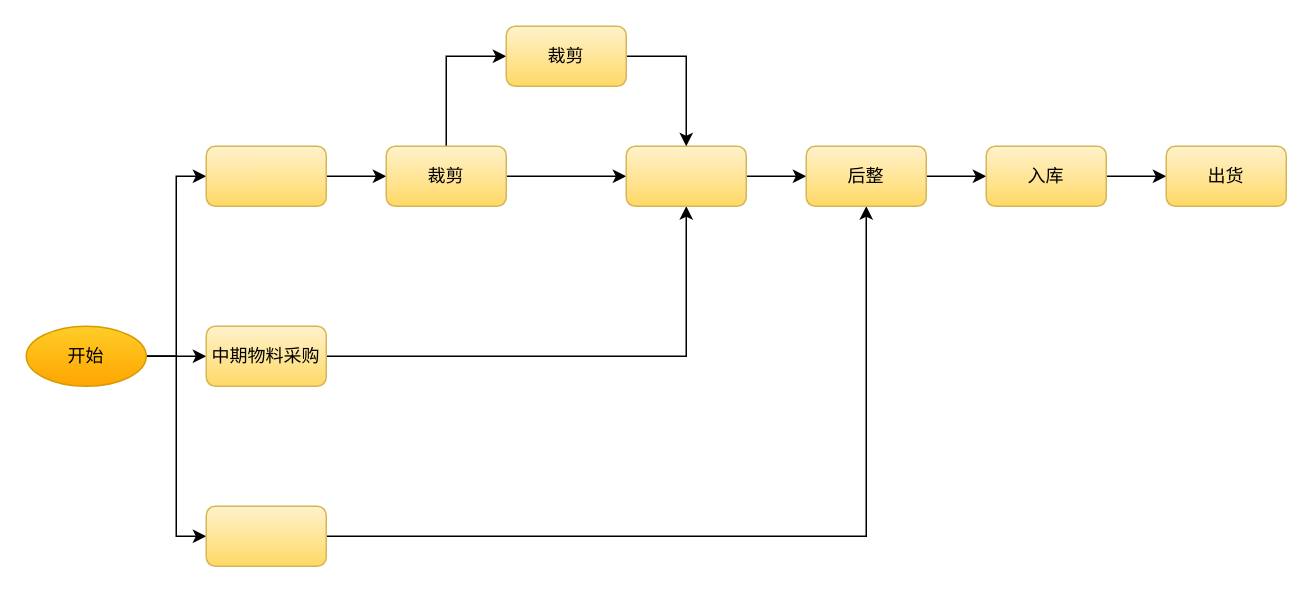
Image size: 1313x593. Some labels were removed from this diagram. Here are the shapes that lost their labels. From the top down, the centre of each, then its label:
At point 265,175: "前期物料采购".
At point 685,175: "车缝".
At point 265,535: "尾期物料采购".
